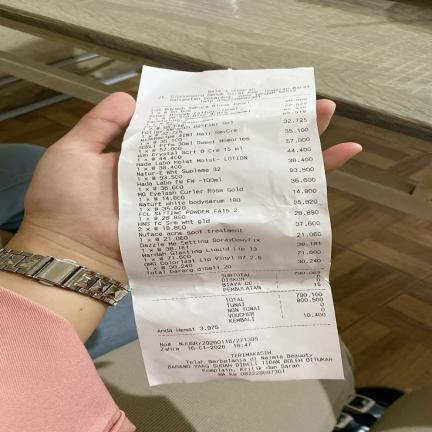receipt-in-hand: (119, 68, 343, 385)
